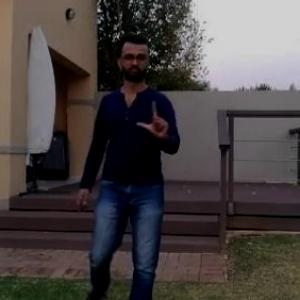land_hand: (133, 92, 174, 140)
